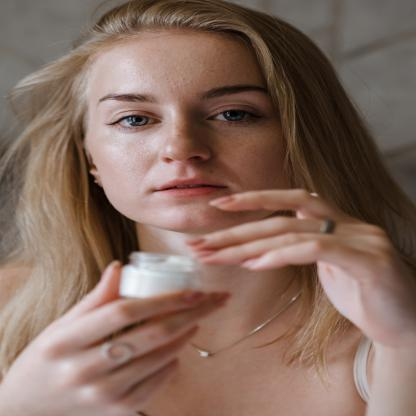Eye: (101, 107, 166, 135), (208, 103, 266, 126)
Mouth: (150, 175, 233, 202)
Nose: (153, 117, 215, 166)
